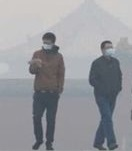person: (29, 31, 67, 151), (88, 39, 124, 151)
